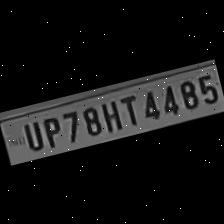4: (134, 86, 162, 122), (153, 80, 180, 116)
5: (193, 70, 221, 107)
7: (56, 107, 84, 144)
8: (76, 102, 104, 138), (174, 75, 200, 112)
H: (96, 95, 123, 134)
P: (36, 112, 64, 148)
T: (115, 92, 141, 128)
U: (17, 118, 45, 152)
